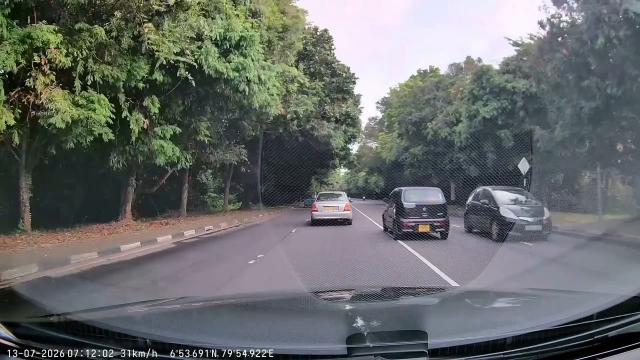illegal overtaking: (375, 181, 461, 250)
number plate: (417, 221, 432, 234)
